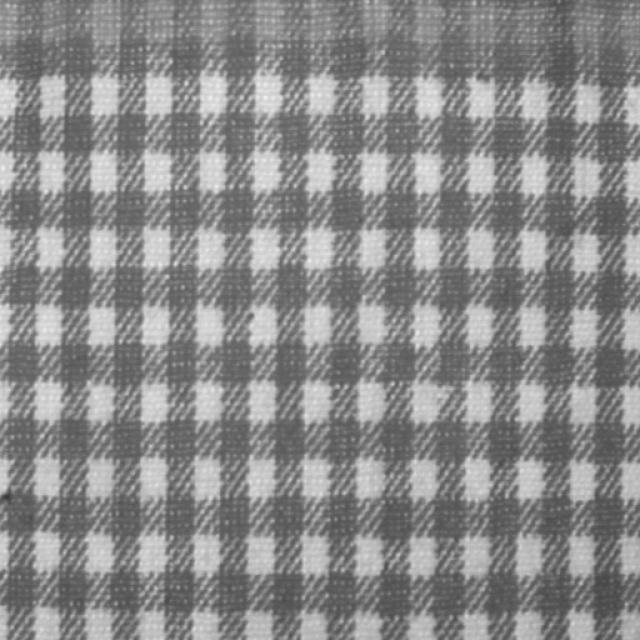Stain-Defect: (0, 0, 639, 51)
